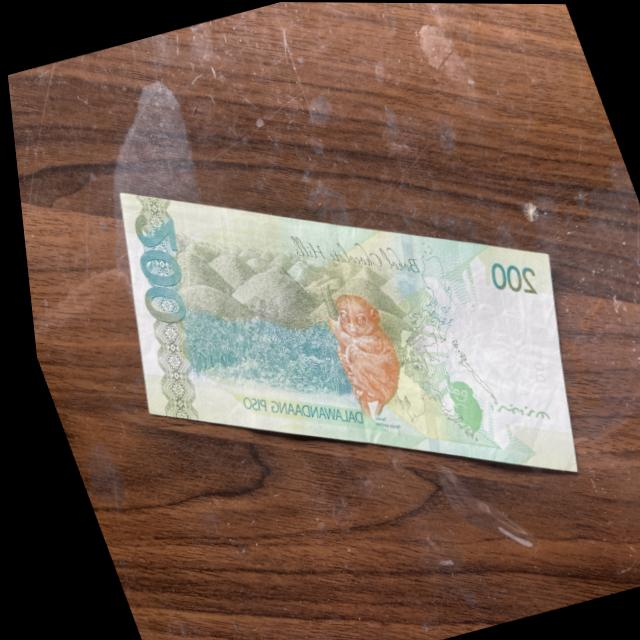200_tarsier: (294, 276, 420, 437)
200_tarsier_watermark: (417, 364, 495, 460)
value_watermark: (506, 331, 550, 393)
watermark: (436, 263, 556, 413)
